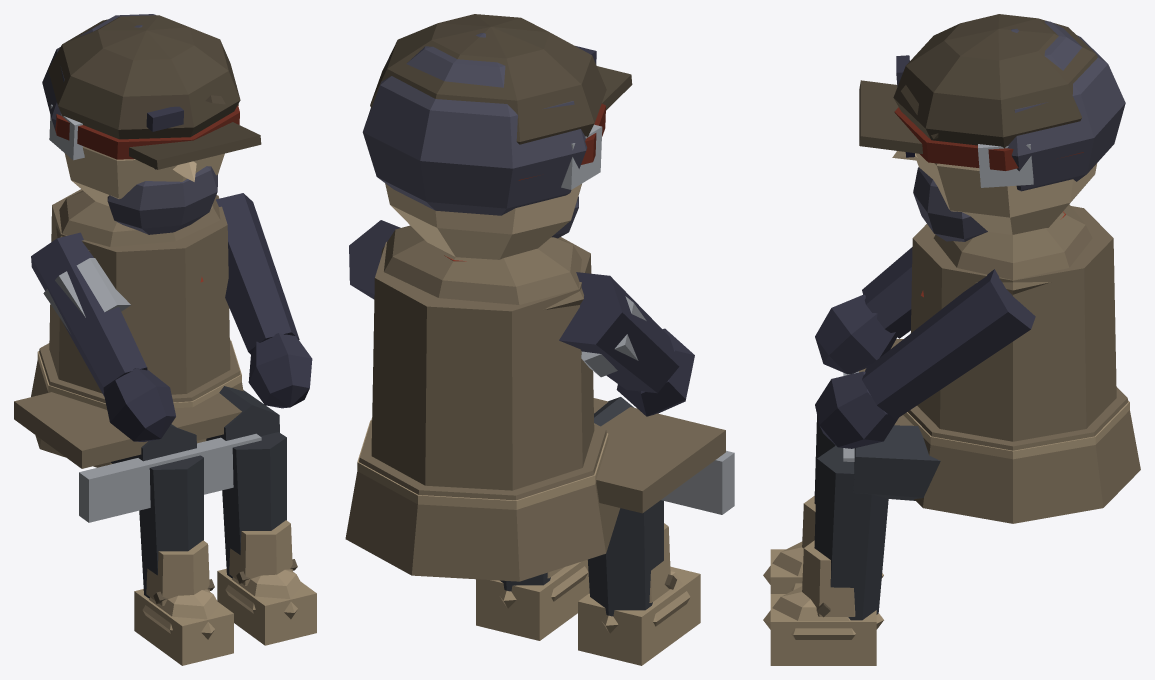
File: ottie_home_unshod_cap.glb
3 views of the same model, side by side, from view 1: azimuth 30°, elevation 25°; view 2: azimuth 150°, elevation 25°; view 3: azimuth 270°, elevation 25° (orthographic). The views are drawn at different scales.
Visible parts, largest first — view 1: Head, LegL, Torso, LegR, ArmR, ArmL; view 2: Torso, Head, LegL, LegR, ArmR, ArmL; view 3: Torso, Head, LegL, ArmL, ArmR, LegR.
Part boxes in pixels (left/top/right/bottom): Head: left=42, top=14, right=261, bottom=234; LegL: left=14, top=386, right=316, bottom=645; Torso: left=31, top=189, right=243, bottom=467; LegR: left=110, top=424, right=233, bottom=665; ArmR: left=31, top=232, right=175, bottom=441; ArmL: left=216, top=193, right=312, bottom=408; Torso: left=345, top=225, right=620, bottom=581; Head: left=362, top=14, right=632, bottom=259; LegL: left=476, top=398, right=734, bottom=640; LegR: left=578, top=397, right=700, bottom=665; ArmR: left=559, top=272, right=694, bottom=416; ArmL: left=349, top=220, right=400, bottom=299; Torso: left=903, top=204, right=1140, bottom=523; Head: left=859, top=14, right=1125, bottom=241; LegL: left=763, top=339, right=940, bottom=665; ArmL: left=815, top=269, right=1035, bottom=448; ArmR: left=815, top=247, right=912, bottom=374; LegR: left=763, top=415, right=883, bottom=593.
Bounding box in the file's own units: 0.6916 × 1.51 × 0.8575.
